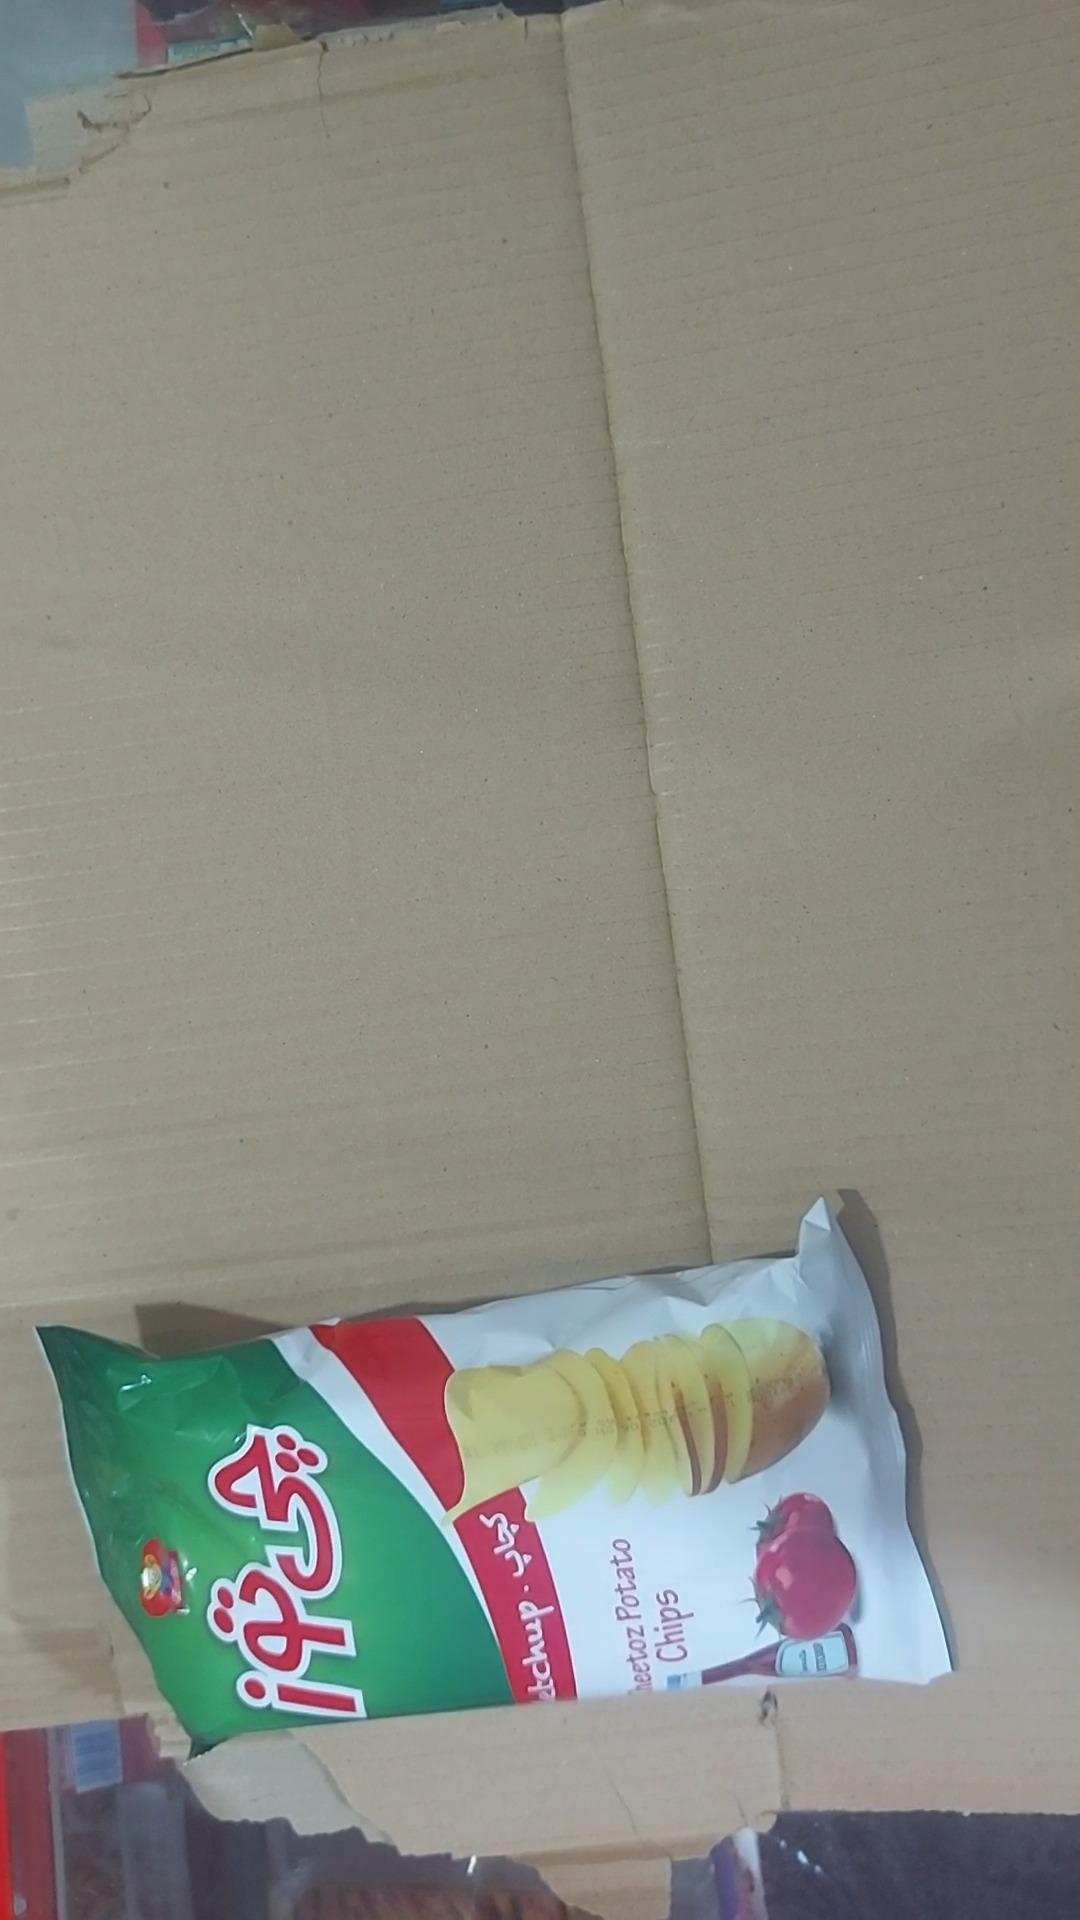Cheetoz ketchup chips: (32, 1200, 953, 1760)
